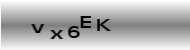6: (67, 25, 80, 38)
E: (79, 14, 91, 28)
K: (95, 18, 111, 31)
v: (31, 23, 44, 33)
x: (49, 28, 63, 39)
